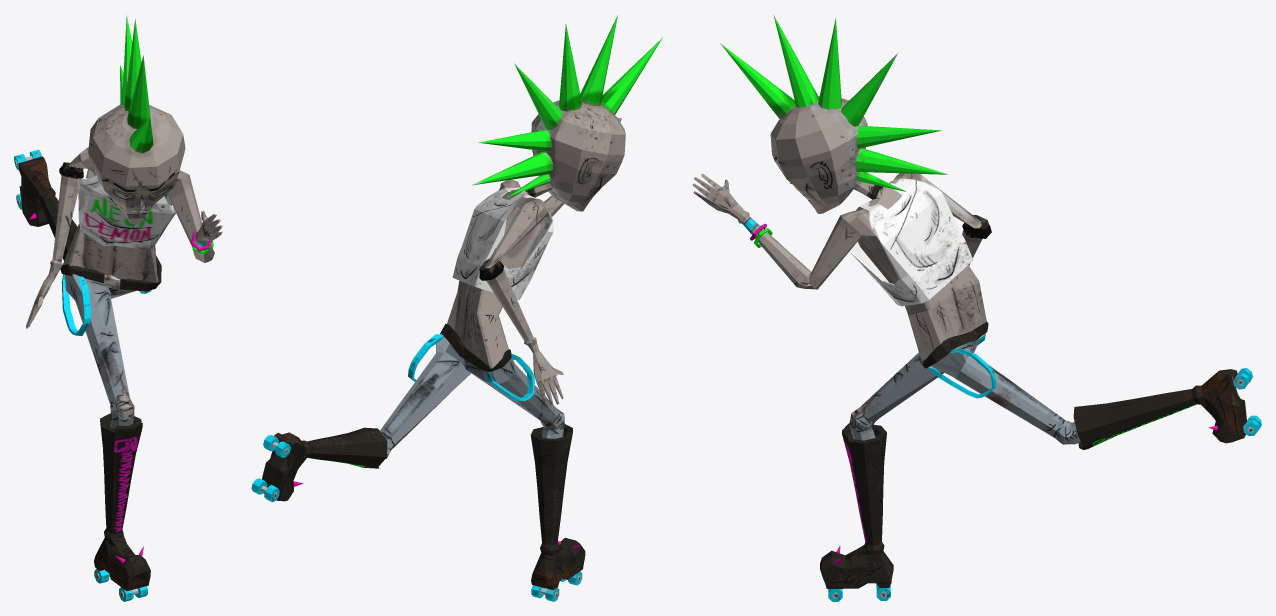
File: punkAnimation_000036.obj
3 views of the same model, side by side, from view 1: azimuth 30°, elevation 25°; view 2: azimuth 150°, elevation 25°; view 3: azimuth 270°, elevation 25° (orthographic). The views are drawn at different scales.
Visible parts, largest first — view 1: Cube.004_Cube.003; view 2: Cube.004_Cube.003; view 3: Cube.004_Cube.003.
Boxes of the visible parts, x1,y1,x2,y2 form: Cube.004_Cube.003: (14,15,222,601); Cube.004_Cube.003: (251,15,662,601); Cube.004_Cube.003: (692,15,1261,601).
Size of the model in its own units: 2.02 by 6.66 by 5.91.
